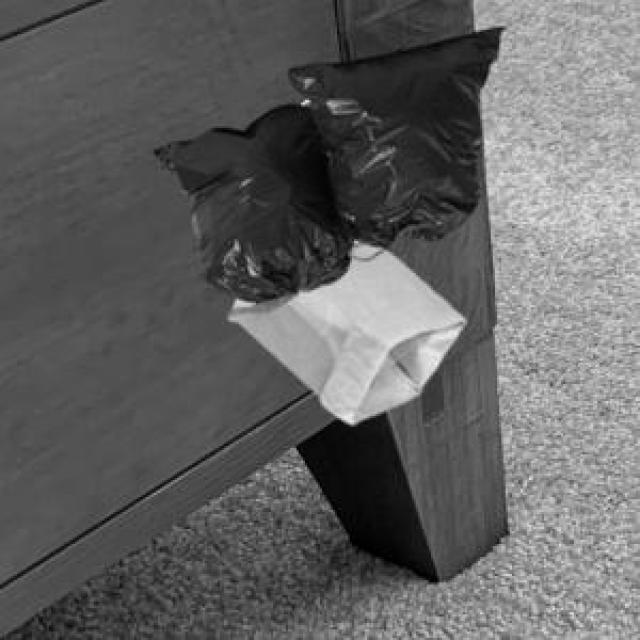miscellaneous trash: (152, 24, 500, 318)
paper: (230, 239, 461, 420)
